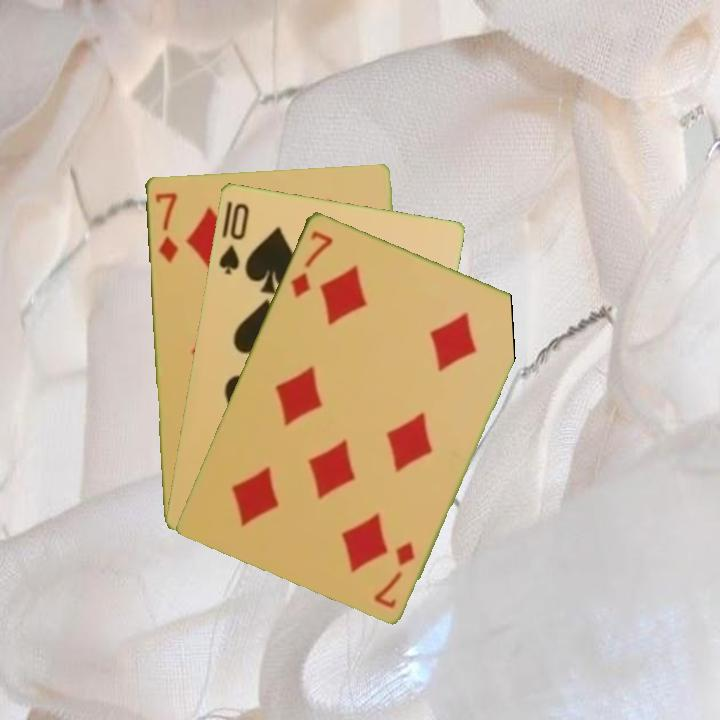10s: (215, 199, 252, 277)
7d: (287, 226, 336, 300), (371, 537, 418, 611), (151, 188, 181, 265)
